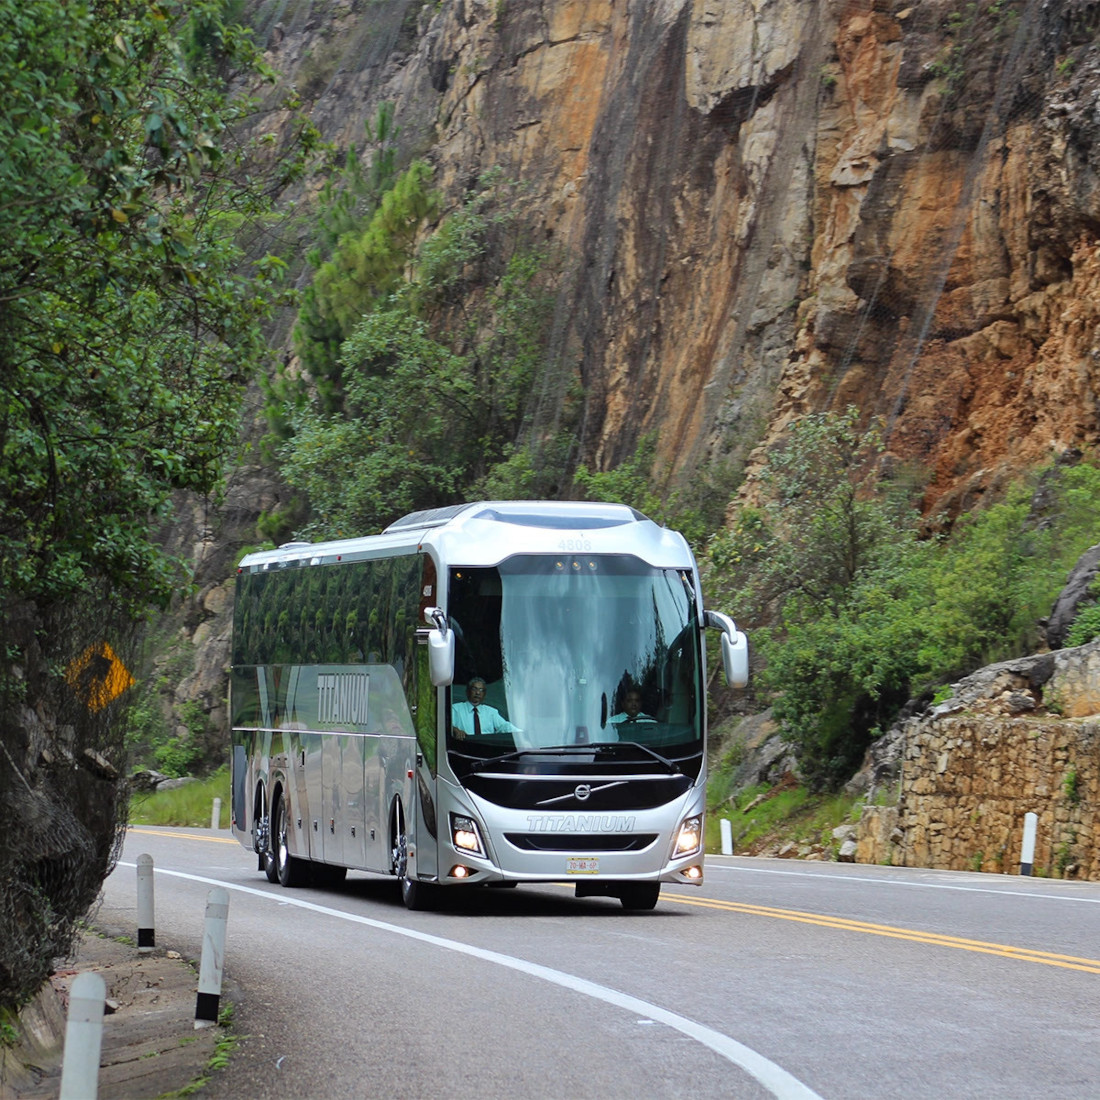autobus: (223, 497, 755, 909)
